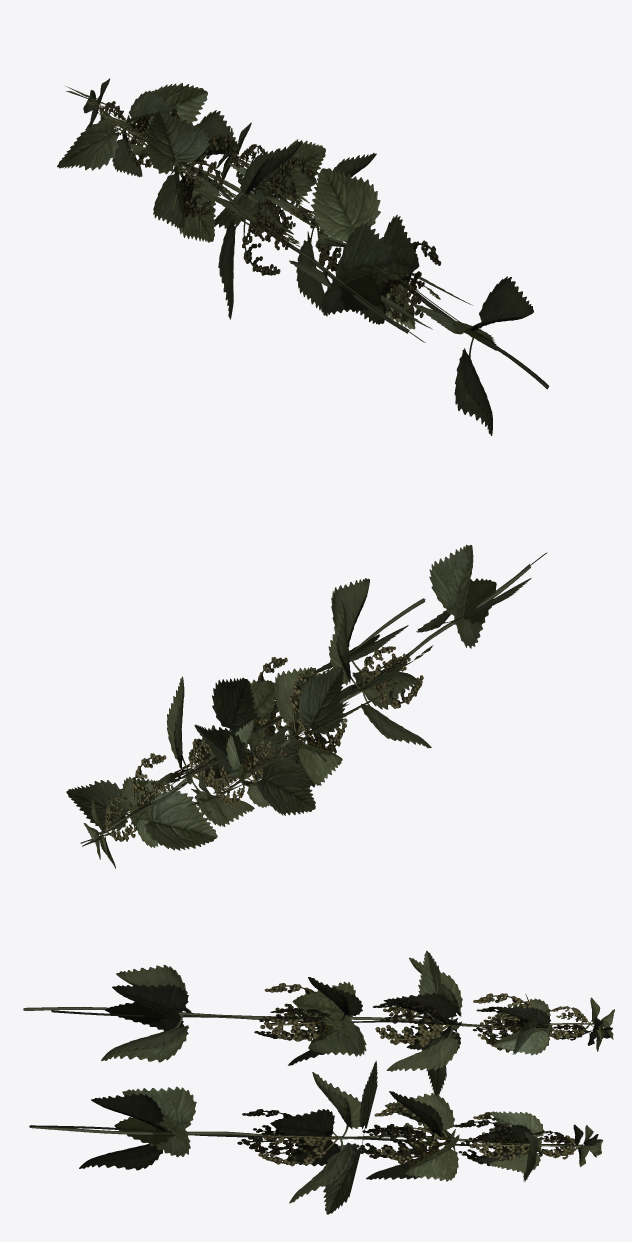
Rendered from TI_StingingNettel_03_2S.fbx.
3 renders of one model, top to bottom at view 1: azimuth 30°, elevation 25°; view 2: azimuth 150°, elevation 25°; view 3: azimuth 270°, elevation 25°, orthographic. The views are drawn at different scales.
Visible parts, largest first — view 1: TI_StingingNettel_03_2S; view 2: TI_StingingNettel_03_2S; view 3: TI_StingingNettel_03_2S.
Part boxes in pixels (x1=…): TI_StingingNettel_03_2S: x1=57, y1=78, x2=548, y2=435; TI_StingingNettel_03_2S: x1=66, y1=545, x2=547, y2=868; TI_StingingNettel_03_2S: x1=23, y1=950, x2=614, y2=1214.
Bounding box in the file's own units: 0.6256 × 0.4909 × 1.29.
